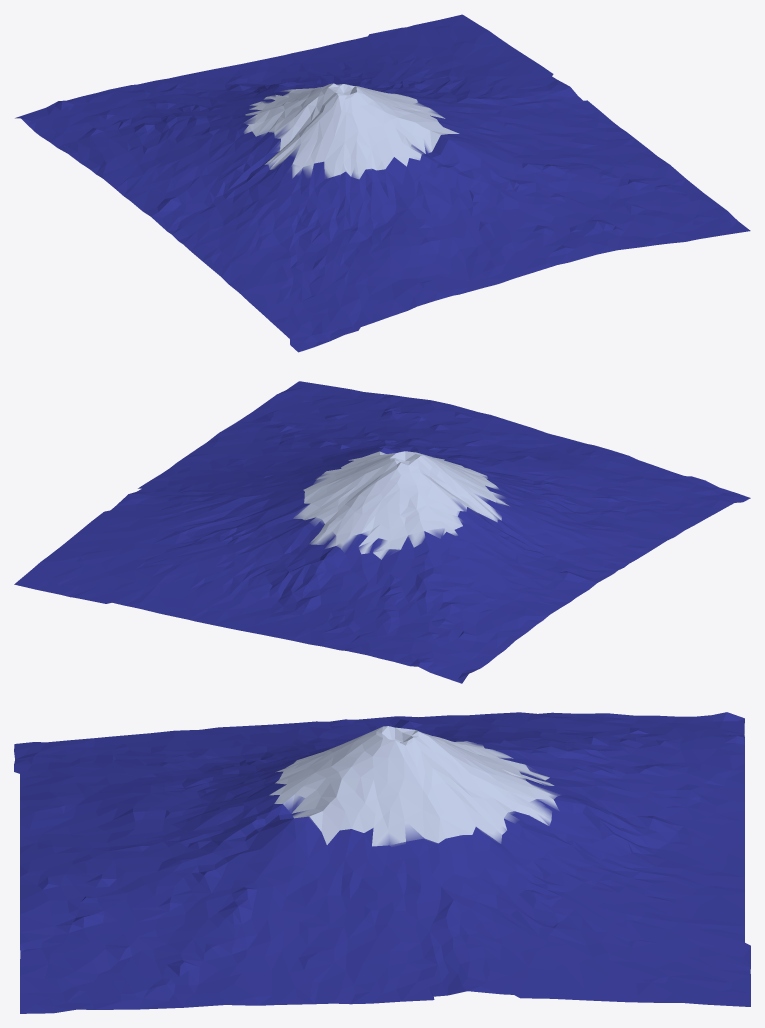
The model's file is mt_fuji_small.dae.
3 renders of one model, top to bottom at view 1: azimuth 30°, elevation 25°; view 2: azimuth 150°, elevation 25°; view 3: azimuth 270°, elevation 25°, orthographic. The views are drawn at different scales.
Parts seen in each view (by area): view 1: node; view 2: node; view 3: node.
Boxes of the visible parts, bbox=[...] form: node: bbox=[15, 14, 750, 352]; node: bbox=[14, 381, 750, 683]; node: bbox=[14, 712, 750, 1013].
Bounding box in the file's own units: 65.63 × 14.5 × 72.66.
Materials: 1 (1 with a texture image).
